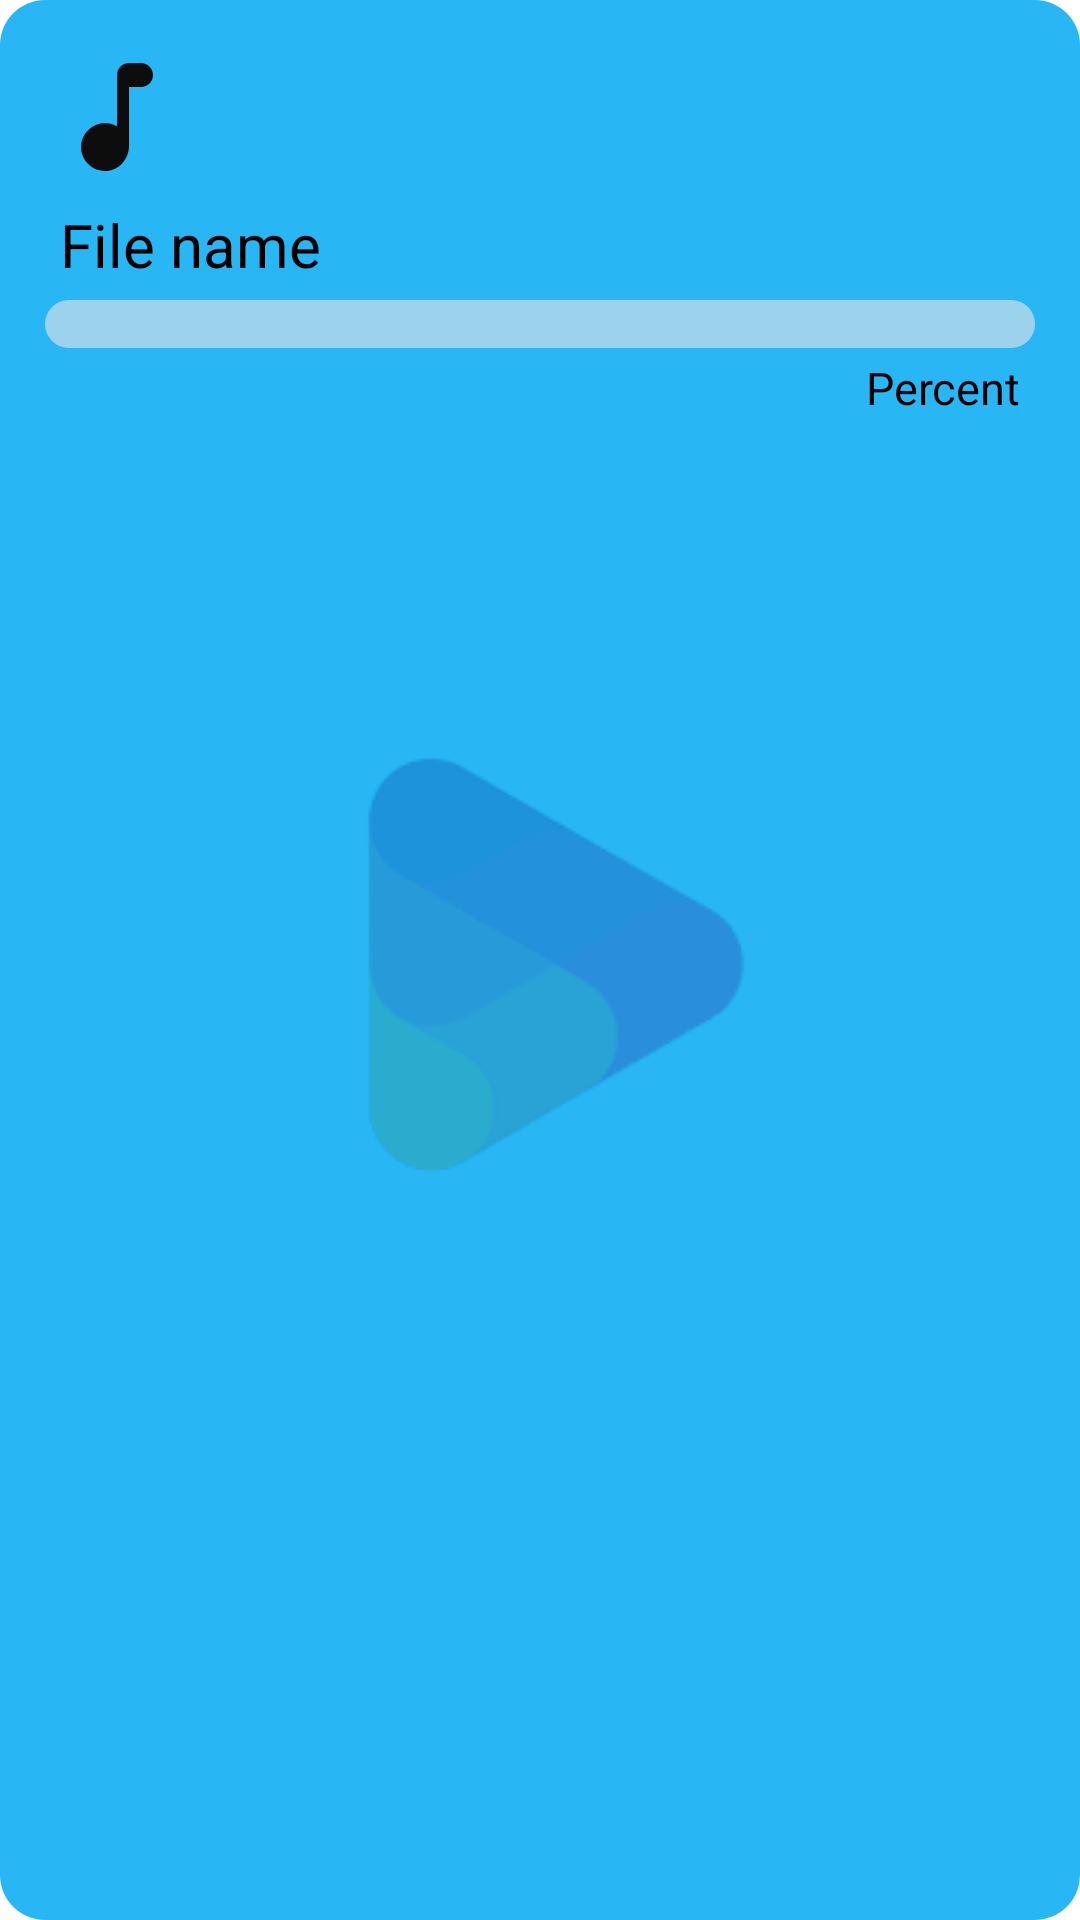

Where icons sit on this 1080x1920 app screen, as [x1, y1, x2, y2]:
musical note: [81, 63, 153, 171]
